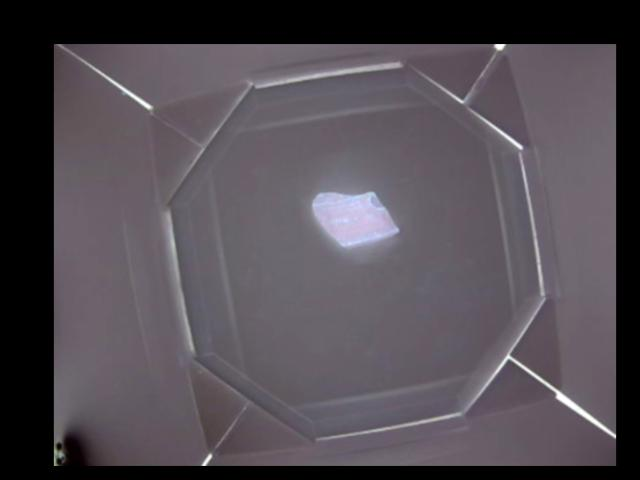China: (311, 185, 400, 249)
